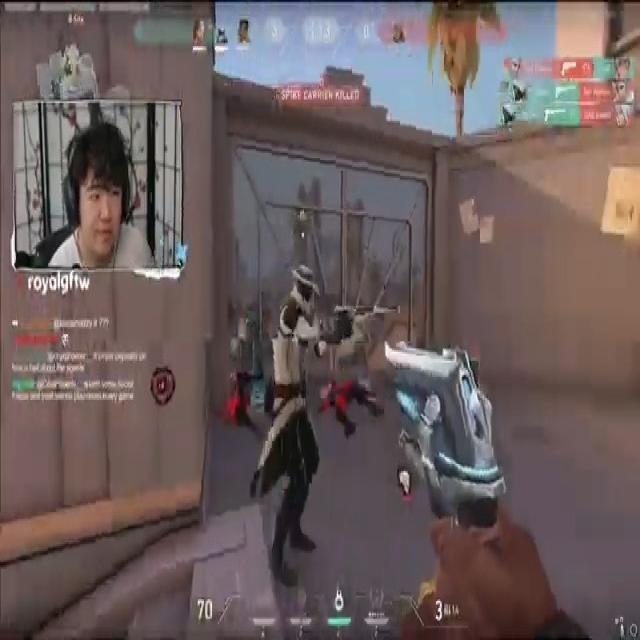ally: (266, 266, 334, 592)
